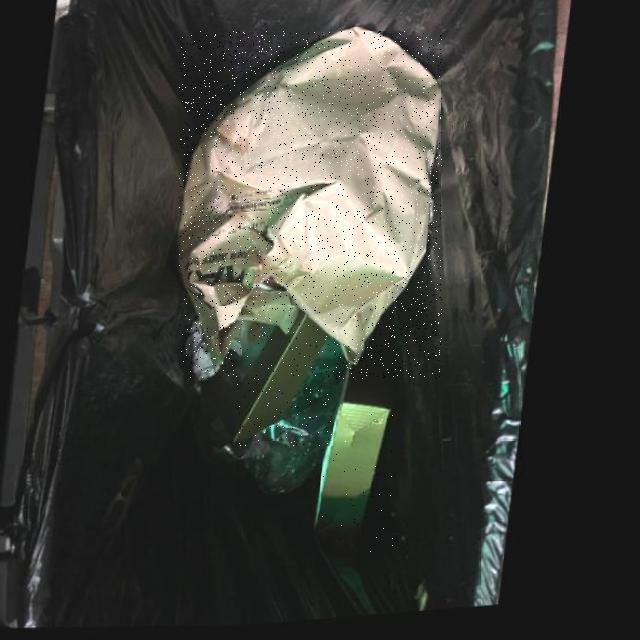paper: (179, 32, 442, 379), (238, 316, 333, 446), (321, 407, 395, 556)
